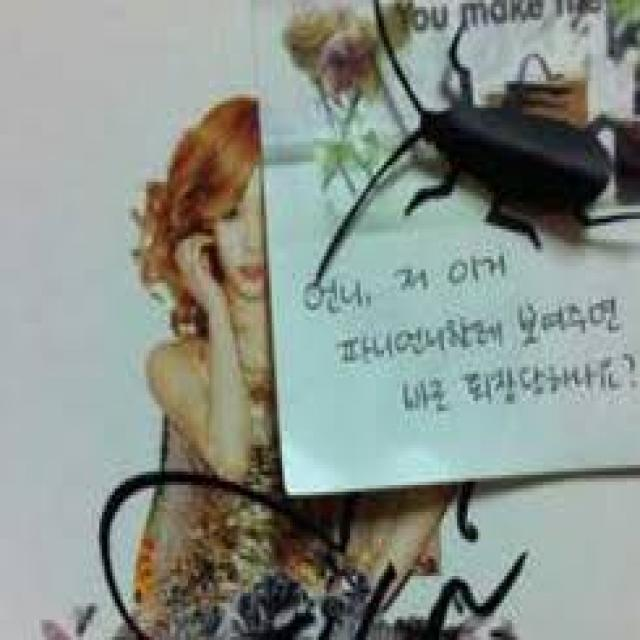Cockroach: (360, 0, 639, 269)
